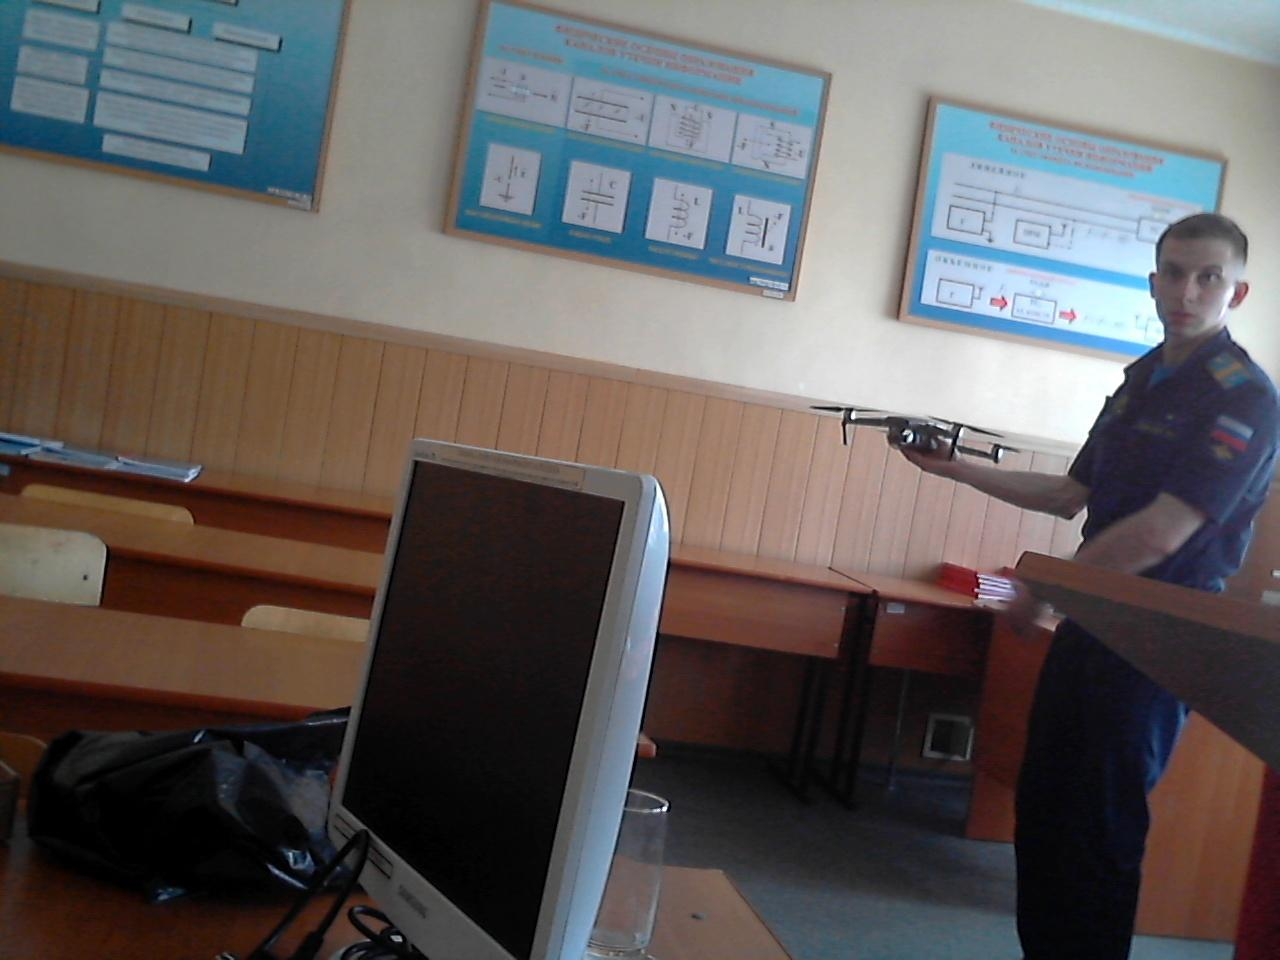drone: (828, 376, 1027, 489)
